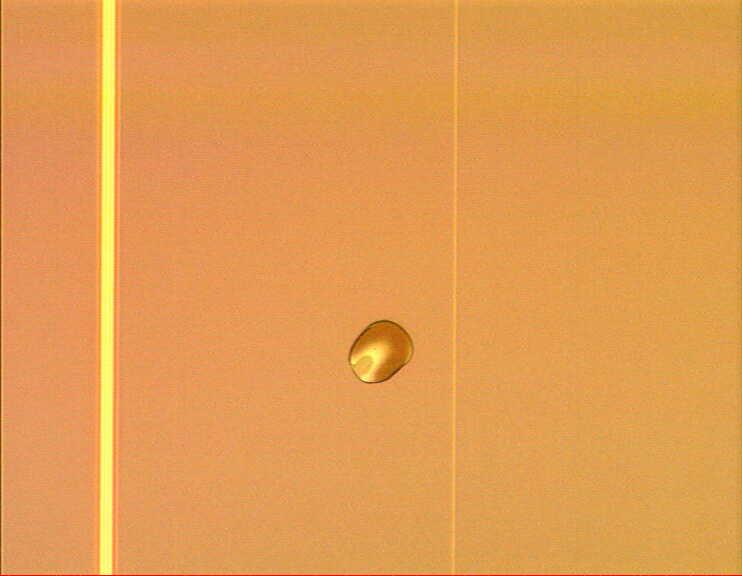PIQ PARTICLE: (344, 316, 420, 392)
